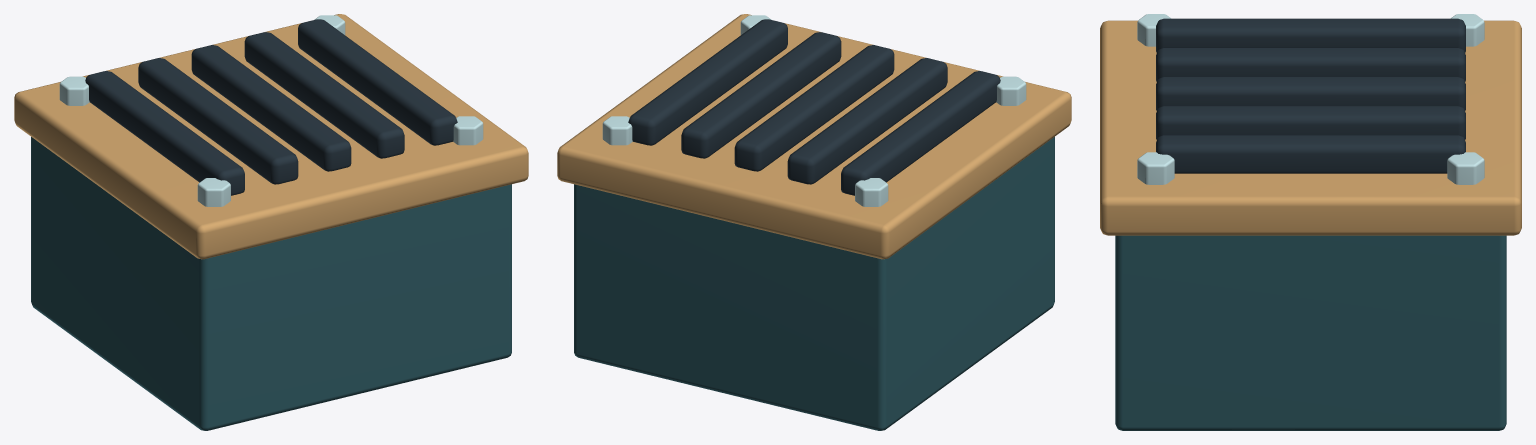
Rendered from wall.glb.
3 renders of one model, left to right at view 1: azimuth 30°, elevation 25°; view 2: azimuth 150°, elevation 25°; view 3: azimuth 270°, elevation 25°, orthographic. The views are drawn at different scales.
Visible parts, largest first — view 1: wall; view 2: wall; view 3: wall.
Boxes of the visible parts, left/top/right/bottom form: wall: left=14, top=14, right=528, bottom=430; wall: left=557, top=14, right=1071, bottom=430; wall: left=1100, top=14, right=1521, bottom=430.
Size of the model in its own units: 1 by 0.685 by 0.98.
